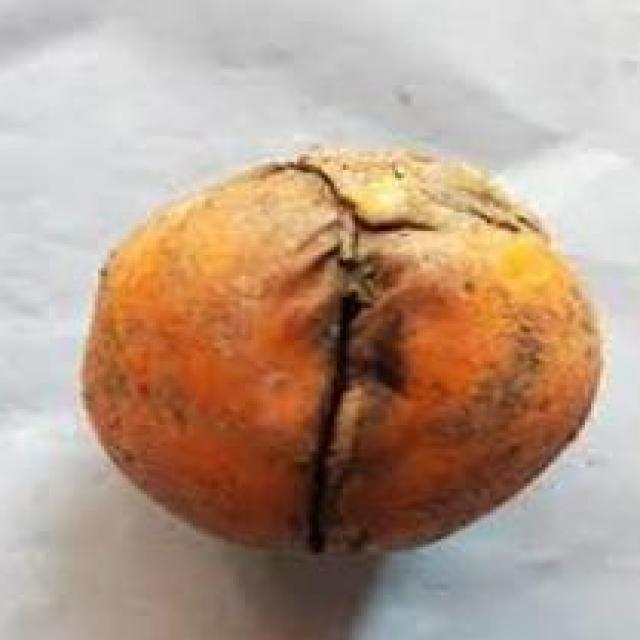damaged: (77, 143, 609, 560)
